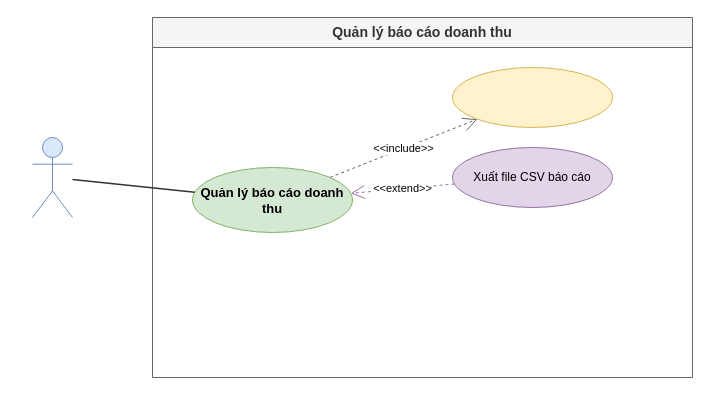
The diagram is 710 pixels wide and 395 high, and some of its shapes have lost their labels. The centre of each missing label's shape, as x and y in pixels:
"Ban tổ chức" goes at pixel 52 177.
"Xem báo cáo doanh thu" goes at pixel 532 97.
